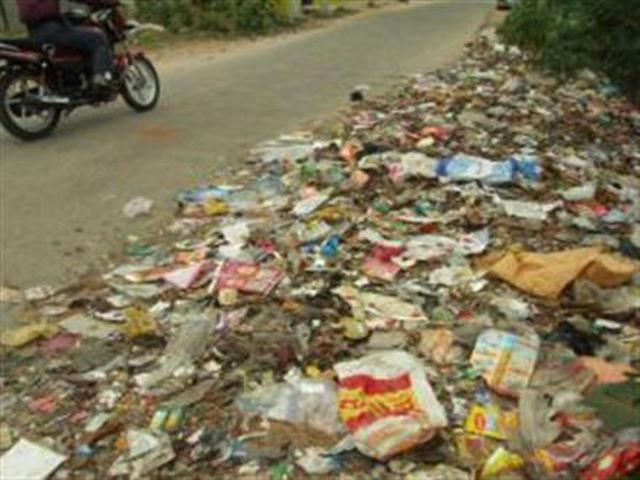garbage: (93, 281, 629, 469), (286, 145, 631, 273), (423, 80, 622, 141)
